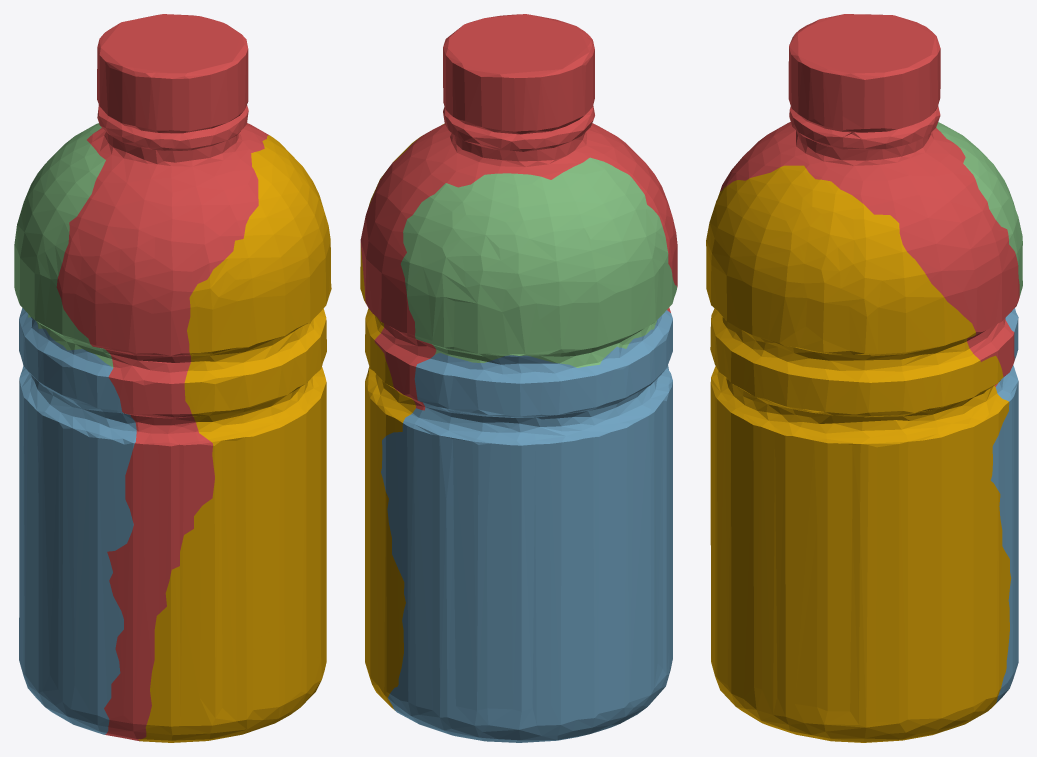
File: mode_4_4pcs.glb
3 renders of one model, left to right at view 1: azimuth 30°, elevation 25°; view 2: azimuth 150°, elevation 25°; view 3: azimuth 270°, elevation 25°, orthographic.
Visible parts, largest first — view 1: piece_0.obj, piece_1.obj, piece_2.obj, piece_3.obj; view 2: piece_2.obj, piece_3.obj, piece_1.obj, piece_0.obj; view 3: piece_0.obj, piece_1.obj, piece_2.obj, piece_3.obj.
Boxes of the visible parts, x1,y1,x2,y2 form: piece_0.obj: (138, 135, 331, 742); piece_1.obj: (56, 14, 268, 741); piece_2.obj: (19, 308, 136, 734); piece_3.obj: (14, 123, 113, 367); piece_2.obj: (381, 310, 672, 742); piece_3.obj: (400, 157, 676, 367); piece_1.obj: (360, 14, 677, 410); piece_0.obj: (360, 123, 444, 710); piece_0.obj: (706, 165, 1011, 742); piece_1.obj: (720, 14, 1019, 386); piece_2.obj: (990, 308, 1018, 703); piece_3.obj: (936, 122, 1022, 296).
Bounding box in the file's own units: 0.4463 × 1 × 0.4451.
